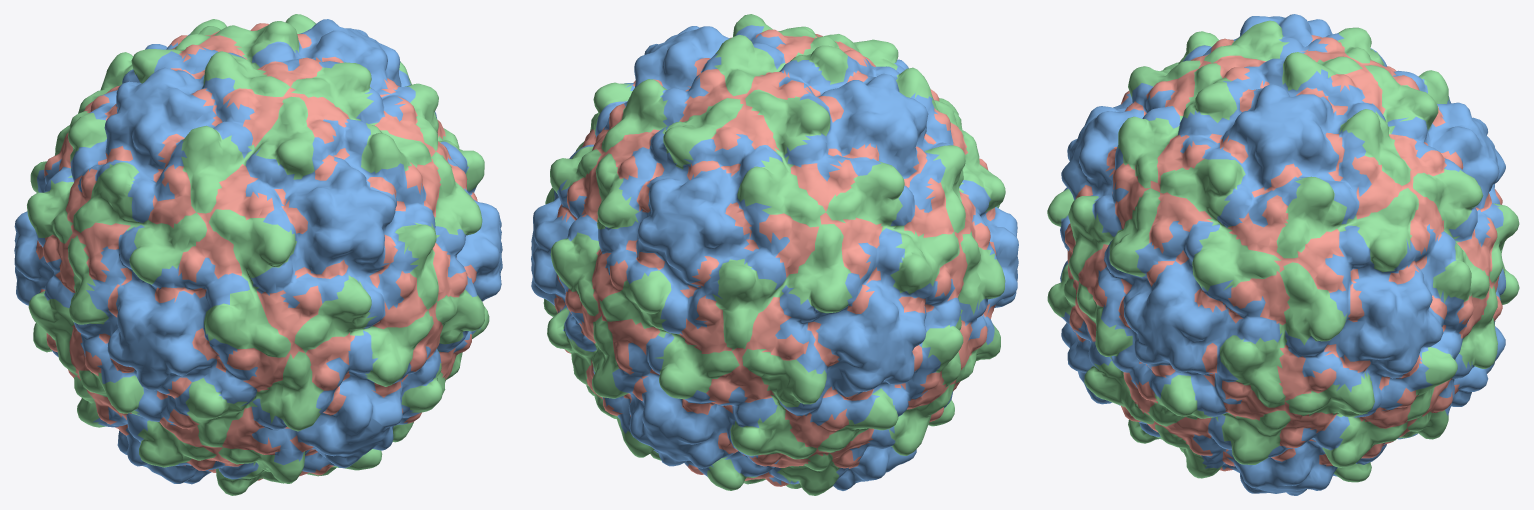
File: 2plv_poliovirus.glb
3 renders of one model, left to right at view 1: azimuth 30°, elevation 25°; view 2: azimuth 150°, elevation 25°; view 3: azimuth 270°, elevation 25°, orthographic.
Visible parts, largest first — view 1: 2PLV_GaussianSurface; view 2: 2PLV_GaussianSurface; view 3: 2PLV_GaussianSurface.
Boxes of the visible parts, x1,y1,x2,y2 form: 2PLV_GaussianSurface: (14,14,502,495); 2PLV_GaussianSurface: (531,14,1018,495); 2PLV_GaussianSurface: (1047,14,1519,495).
Size of the model in its own units: 0.3907 by 0.3928 by 0.3906.
